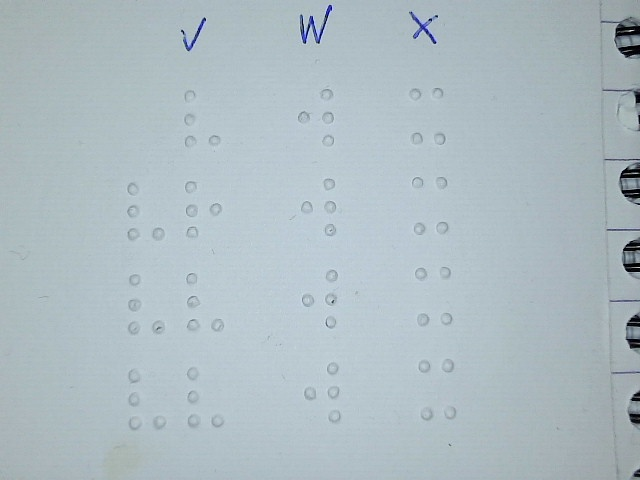V: (182, 87, 222, 148), (126, 179, 166, 240), (186, 366, 226, 427), (127, 368, 167, 429)
W: (296, 86, 336, 147), (299, 176, 339, 237), (300, 267, 340, 328), (303, 361, 343, 422)
X: (417, 357, 458, 420), (413, 264, 454, 326), (407, 85, 447, 146), (410, 174, 450, 235)
